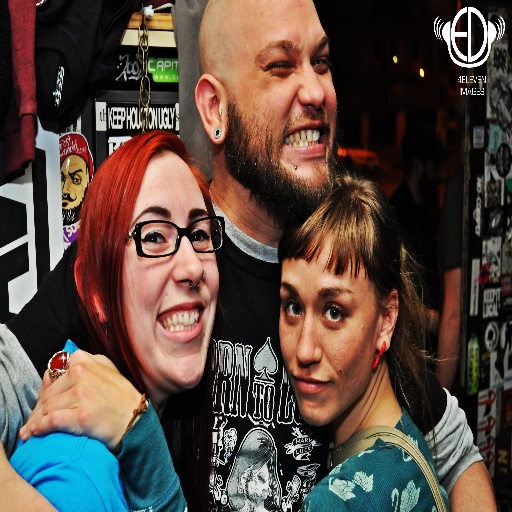hand: (23, 352, 133, 464)
